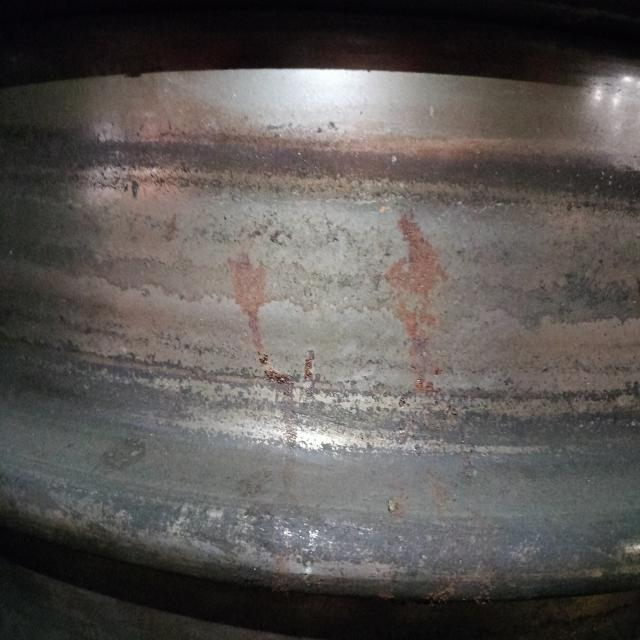Contact_Fatigue_Cracks: (336, 186, 553, 220)
